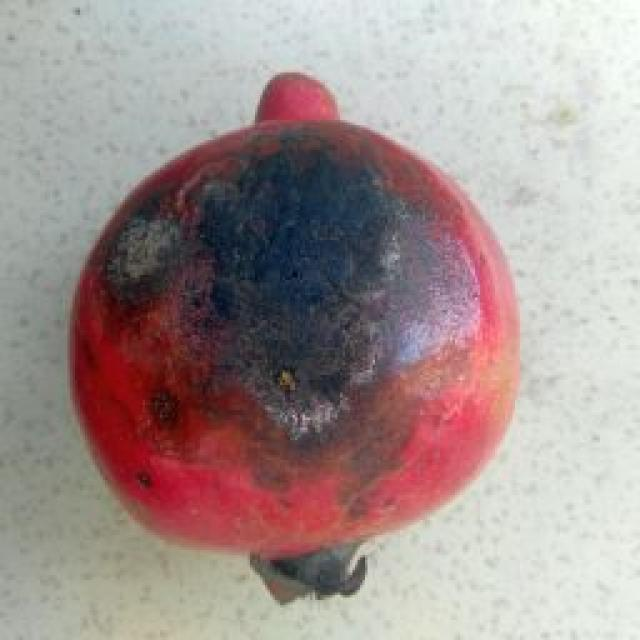Rotten: (64, 66, 529, 604)
